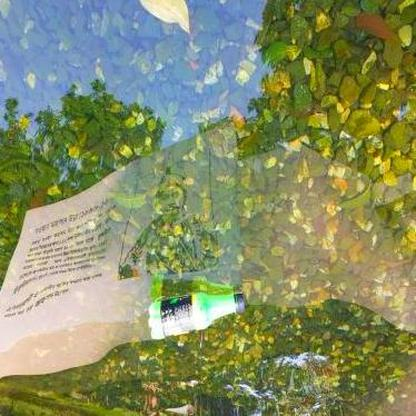plastic bottle: (147, 294, 245, 341)
